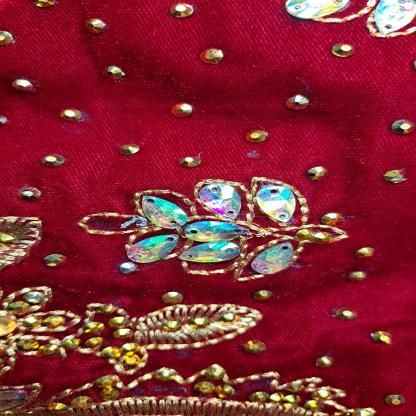spot: (244, 148, 267, 160)
